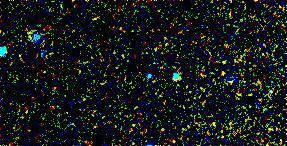star: (208, 56, 238, 86)
